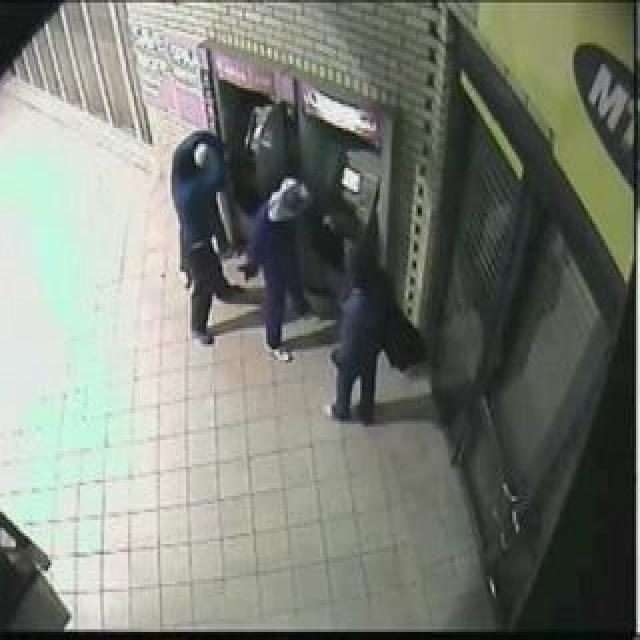thief: (172, 100, 393, 303)
